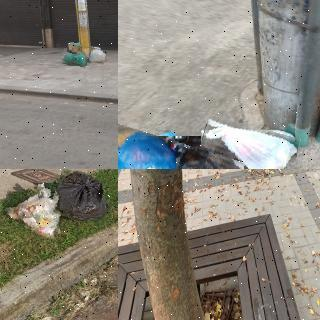Garbage: (197, 120, 298, 169), (1, 183, 65, 239), (52, 170, 116, 225), (118, 129, 204, 169), (167, 146, 242, 169), (62, 50, 88, 67), (88, 48, 107, 64), (68, 42, 81, 55)
